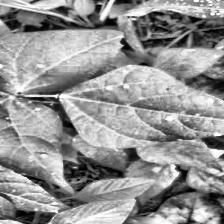Bean Rust: (57, 63, 224, 138), (0, 27, 125, 96), (0, 95, 71, 167)
